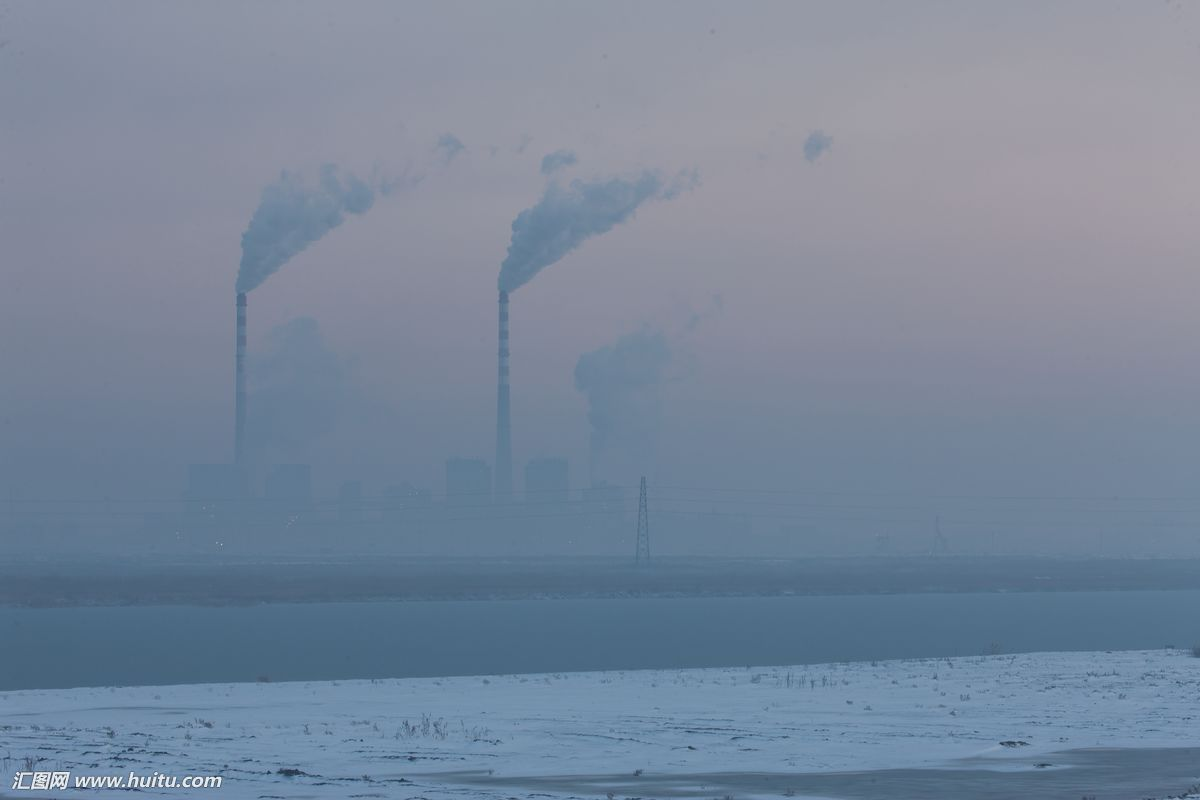dust: (467, 136, 672, 305), (217, 154, 425, 305)
